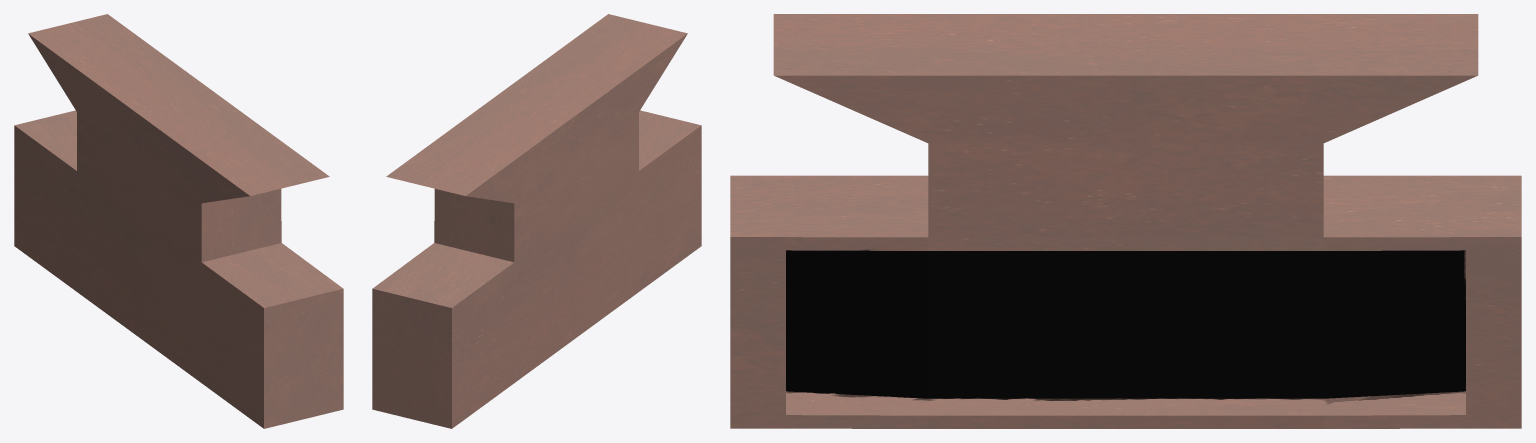
Rendered from Brujula.glb.
3 renders of one model, left to right at view 1: azimuth 30°, elevation 25°; view 2: azimuth 150°, elevation 25°; view 3: azimuth 270°, elevation 25°, orthographic. The views are drawn at different scales.
Visible parts, largest first — view 1: Cube; view 2: Cube; view 3: Cube.
Boxes of the visible parts, x1=… form: Cube: x1=14, y1=14, x2=343, y2=428; Cube: x1=372, y1=14, x2=701, y2=428; Cube: x1=730, y1=14, x2=1521, y2=428.
Bounding box in the file's own units: 2.16 × 5.73 × 11.64.
1 material, 1 textured.
